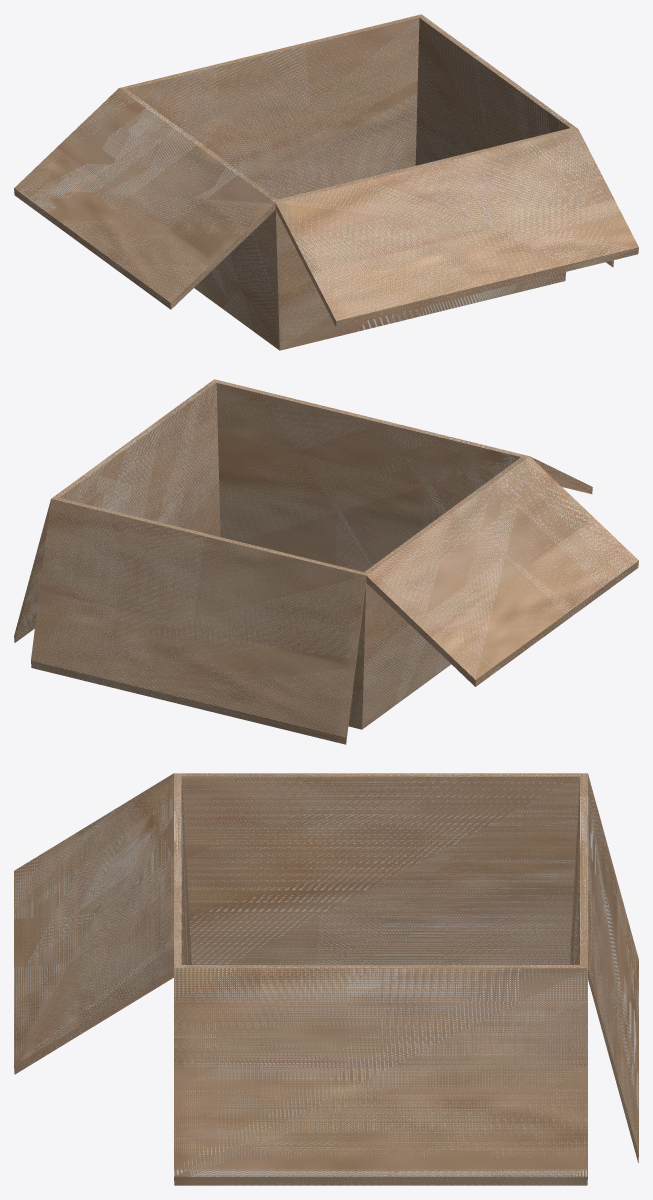
File: cardboard_box.dae
3 views of the same model, one above another, from view 1: azimuth 30°, elevation 25°; view 2: azimuth 150°, elevation 25°; view 3: azimuth 270°, elevation 25° (orthographic). The views are drawn at different scales.
Visible parts, largest first — view 1: SketchUp (×2); view 2: SketchUp (×2); view 3: SketchUp (×2).
Boxes of the visible parts, x1,y1,x2,y2 form: SketchUp (×2): (14,14,638,350); SketchUp (×2): (14,379,638,744); SketchUp (×2): (14,773,638,1185).
Size of the model in its own units: 249 by 231 by 82.28.
